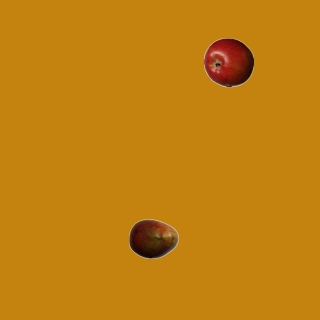Apple Braeburn: (203, 37, 253, 87)
Mango Red: (128, 213, 178, 263)
